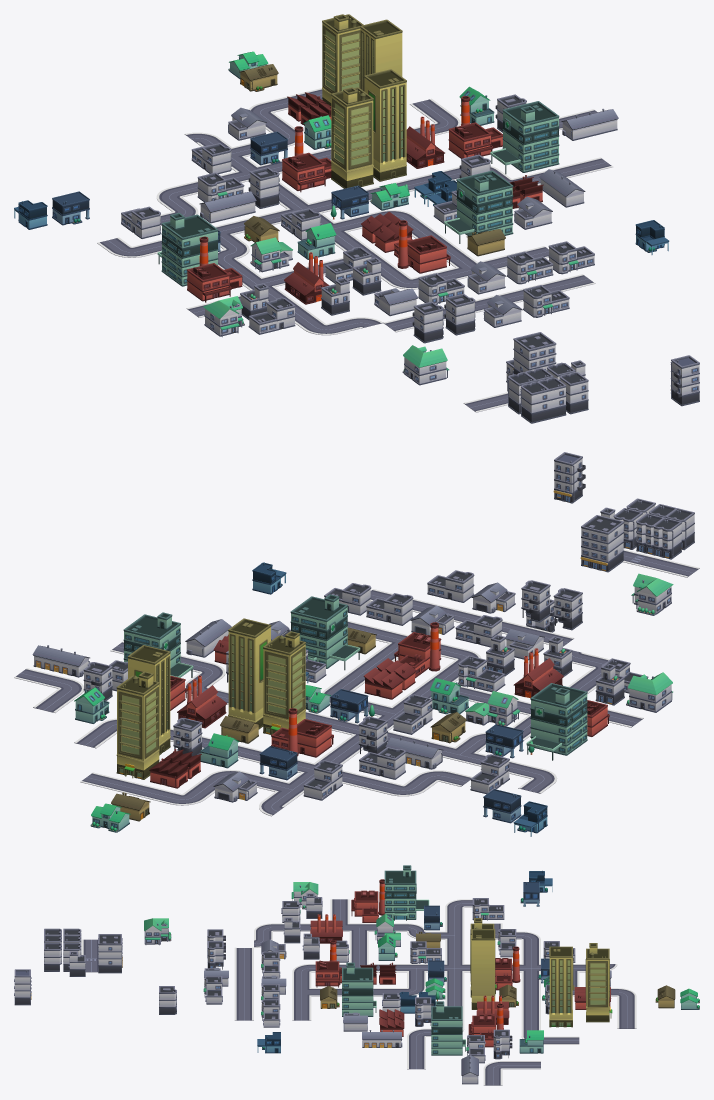
File: Houses_idk.glb
3 views of the same model, one above another, from view 1: azimuth 30°, elevation 25°; view 2: azimuth 150°, elevation 25°; view 3: azimuth 270°, elevation 25° (orthographic). The views are drawn at different scales.
Parts seen in each view (by area): view 1: building-skyscraper-c, building-skyscraper-e, building-n, building-n (2), building-skyscraper-c (2), building-n (3), building-skyscraper-e (1), building-l (2), building-l, building-l (3), building-l (1), building-i (+46 smaller); view 2: building-skyscraper-c (2), building-skyscraper-c, building-skyscraper-e, building-n (3), building-n (2), building-n, building-i, building-skyscraper-e (1), building-l (1), building-l, building-type-f (1), building-m (1) (+49 smaller); view 3: building-skyscraper-e (1), building-skyscraper-c (2), building-skyscraper-e, building-n (3), building-n, building-n (2), building-l (2), building-i, building-l, building-l (3), building-l (1), building-m (+34 smaller).
Part boxes in pixels (<box>): building-skyscraper-c: <box>331,87,373,188</box>; building-skyscraper-e: <box>364,69,406,181</box>; building-n: <box>490,101,559,174</box>; building-n (2): <box>444,170,513,243</box>; building-skyscraper-c (2): <box>322,14,363,105</box>; building-n (3): <box>157,213,218,286</box>; building-skyscraper-e (1): <box>360,19,402,91</box>; building-l (2): <box>187,236,242,302</box>; building-l: <box>394,220,450,273</box>; building-l (3): <box>448,96,502,158</box>; building-l (1): <box>282,126,331,192</box>; building-i: <box>513,332,556,374</box>; building-skyscraper-c (2): <box>116,671,159,779</box>; building-skyscraper-c: <box>263,631,305,734</box>; building-skyscraper-e: <box>228,618,271,729</box>; building-n (3): <box>526,683,587,760</box>; building-n (2): <box>290,594,360,670</box>; building-n: <box>123,612,193,677</box>; building-i: <box>580,515,624,572</box>; building-skyscraper-e (1): <box>127,645,170,755</box>; building-l (1): <box>271,708,333,757</box>; building-l: <box>394,622,441,678</box>; building-type-f (1): <box>626,672,672,712</box>; building-m (1): <box>177,675,226,728</box>; building-skyscraper-e (1): <box>549,946,574,1027</box>; building-skyscraper-c (2): <box>585,943,612,1022</box>; building-skyscraper-e: <box>471,929,495,1009</box>; building-n (3): <box>384,865,429,920</box>; building-n: <box>431,1001,465,1055</box>; building-n (2): <box>342,962,376,1016</box>; building-l (2): <box>351,879,385,922</box>; building-i: <box>98,934,122,973</box>; building-l: <box>315,940,341,987</box>; building-l (3): <box>468,1003,503,1047</box>; building-l (1): <box>495,946,520,990</box>; building-m: <box>310,914,342,943</box>.
Size of the model in its own units: 24.73 by 6.08 by 35.86.
Materials: 23 (23 with a texture image).
